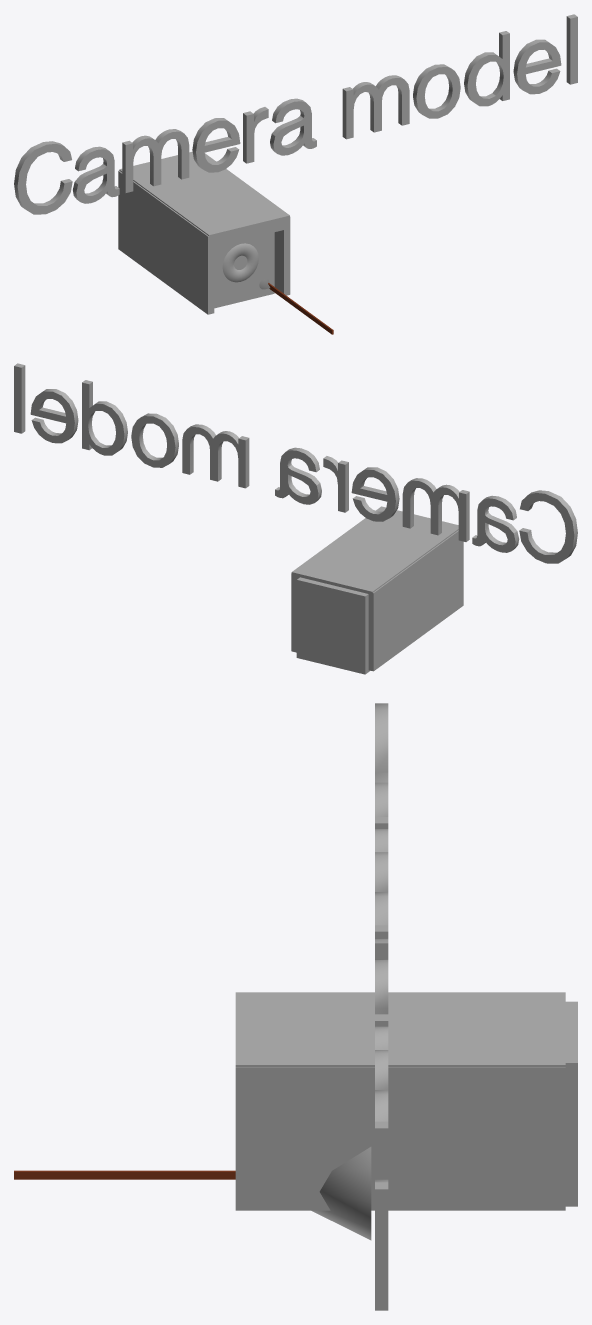
Rendered from camera.dae.
The picture shows the model from 3 angles, top to bottom: view 1: azimuth 30°, elevation 25°; view 2: azimuth 150°, elevation 25°; view 3: azimuth 270°, elevation 25°; orthographic projection. The views are drawn at different scales.
Parts seen in each view (by area): view 1: Camera, Box-side-2, Box-top, Box, Box-side-3, Lens; view 2: Camera, Box-side-2, Box-top, Box, Box-side-3; view 3: Box-side-3, Box-top, Camera, Cone, Box, Lazer.
Part boxes in pixels (x1,y1,x2,y2): Camera: (14, 14, 577, 214); Box-side-2: (118, 170, 214, 314); Box-top: (119, 151, 289, 247); Box: (120, 155, 274, 308); Box-side-3: (274, 216, 290, 295); Lens: (222, 243, 258, 282); Camera: (14, 363, 577, 563); Box-side-2: (367, 530, 463, 671); Box-top: (291, 506, 458, 604); Box: (296, 577, 370, 674); Box-side-3: (291, 573, 297, 652); Box-side-3: (235, 1067, 565, 1210); Box-top: (235, 992, 565, 1066); Camera: (375, 703, 388, 1310); Cone: (311, 1147, 371, 1240); Box: (565, 1001, 577, 1206); Lazer: (14, 1170, 235, 1179).
Size of the model in its own units: 9 by 2.99 by 4.27.
